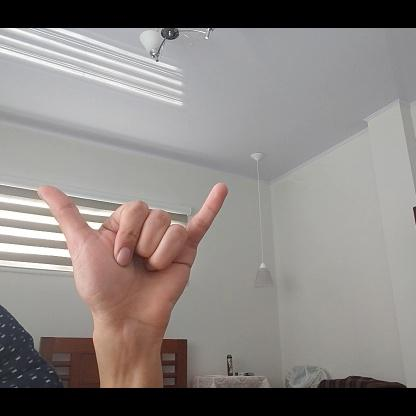Y: (35, 179, 232, 329)
